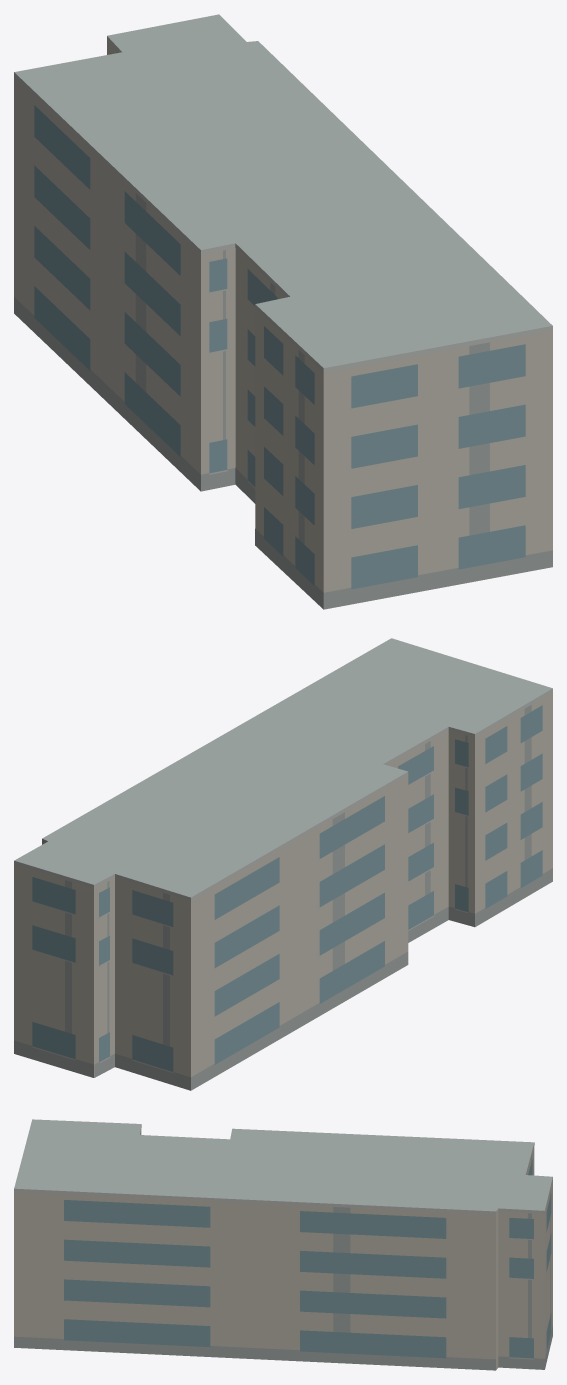
File: survey-upis-32879494.glb
3 views of the same model, one above another, from view 1: azimuth 30°, elevation 25°; view 2: azimuth 150°, elevation 25°; view 3: azimuth 270°, elevation 25° (orthographic). The views are drawn at different scales.
Visible parts, largest first — view 1: survey-upis-32879494.tmp; view 2: survey-upis-32879494.tmp; view 3: survey-upis-32879494.tmp.
Part boxes in pixels (left/top/right/bottom): survey-upis-32879494.tmp: left=14, top=14, right=552, bottom=609; survey-upis-32879494.tmp: left=14, top=638, right=552, bottom=1090; survey-upis-32879494.tmp: left=14, top=1119, right=552, bottom=1370.
Bounding box in the file's own units: 15.15 × 12.2 × 37.46.
